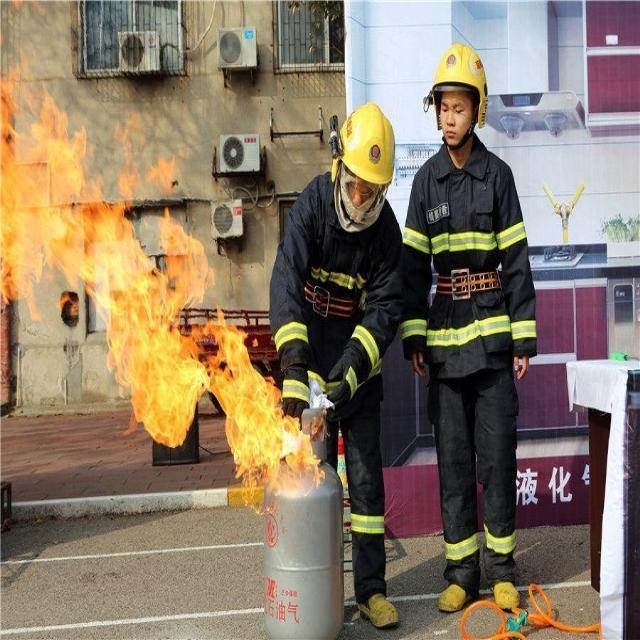Fire: (1, 44, 333, 518)
